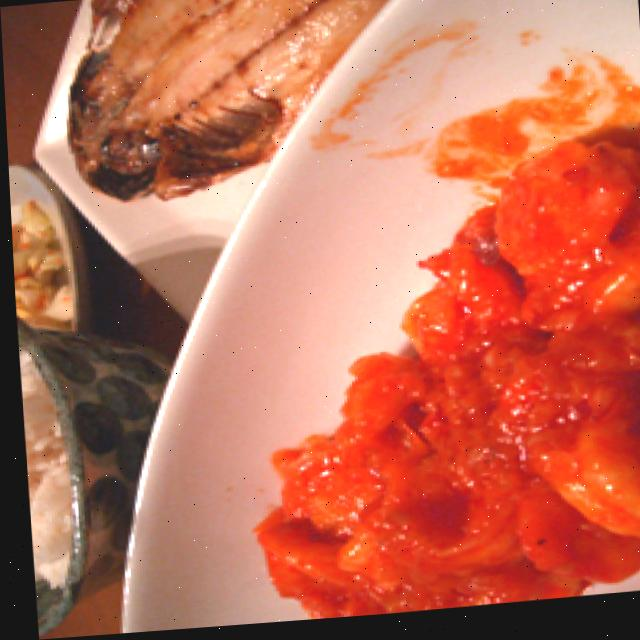熟制海鲜: (177, 111, 640, 630)
